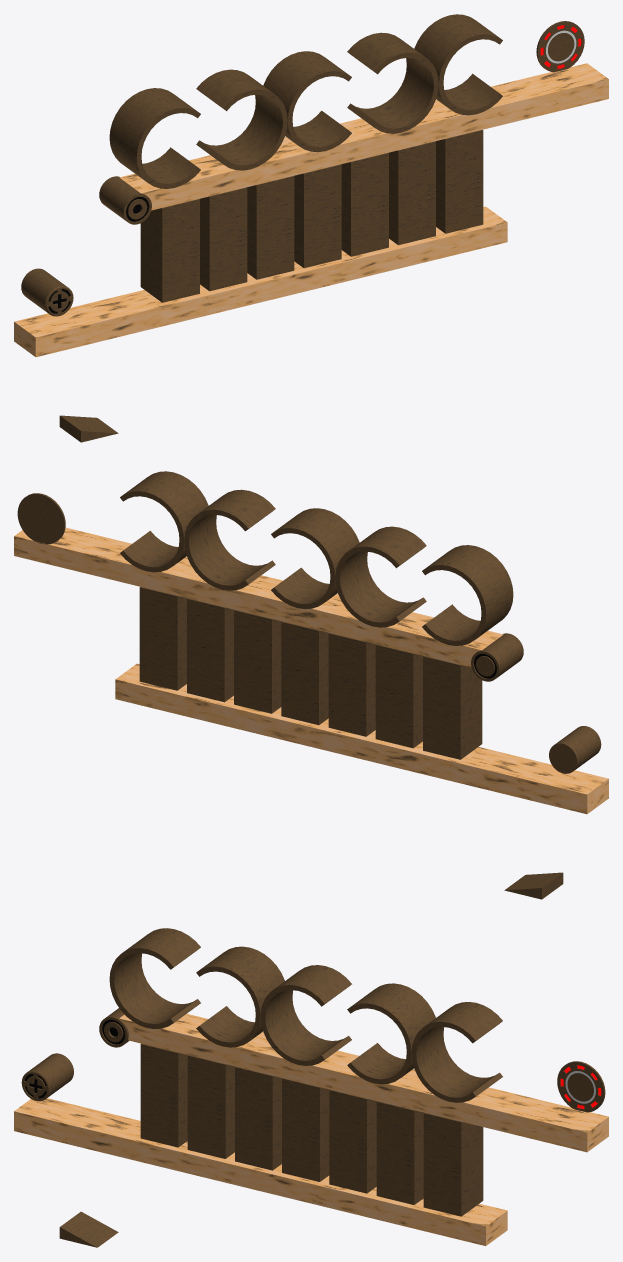
File: level10.fbx
3 views of the same model, one above another, from view 1: azimuth 30°, elevation 25°; view 2: azimuth 150°, elevation 25°; view 3: azimuth 330°, elevation 25° (orthographic).
Parts seen in each view (by area): view 1: Cube.025, Cube.024, AlternateDoor, SpinCircle.003, SpinCircle.001, SpinCircle.004, AlternateDoor.001, AlternateDoor.006, AlternateDoor.003, AlternateDoor.002, AlternateDoor.004, AlternateDoor.005 (+6 smaller); view 2: Cube.025, Cube.024, AlternateDoor, SpinCircle.003, SpinCircle.001, SpinCircle.004, AlternateDoor.001, AlternateDoor.006, AlternateDoor.003, AlternateDoor.002, AlternateDoor.004, AlternateDoor.005 (+6 smaller); view 3: Cube.025, Cube.024, AlternateDoor.006, SpinCircle, SpinCircle.002, SpinCircle.004, AlternateDoor.001, AlternateDoor.005, AlternateDoor, AlternateDoor.004, AlternateDoor.003, AlternateDoor.002 (+6 smaller).
Boxes of the visible parts, x1,y1,x2,y2 form: Cube.025: [14, 206, 507, 357]; Cube.024: [119, 63, 608, 210]; AlternateDoor: [140, 199, 199, 302]; SpinCircle.003: [196, 69, 287, 170]; SpinCircle.001: [347, 32, 438, 133]; SpinCircle.004: [109, 88, 200, 188]; AlternateDoor.001: [200, 187, 247, 291]; AlternateDoor.006: [436, 130, 483, 233]; AlternateDoor.003: [294, 164, 341, 268]; AlternateDoor.002: [247, 176, 294, 279]; AlternateDoor.004: [341, 153, 388, 256]; AlternateDoor.005: [388, 141, 435, 245]; Cube.025: [115, 663, 608, 814]; Cube.024: [14, 527, 503, 667]; AlternateDoor: [423, 656, 482, 759]; SpinCircle.003: [335, 526, 426, 627]; SpinCircle.001: [184, 489, 275, 590]; SpinCircle.004: [422, 545, 513, 645]; AlternateDoor.001: [375, 644, 422, 748]; AlternateDoor.006: [139, 587, 186, 690]; AlternateDoor.003: [281, 621, 328, 725]; AlternateDoor.002: [328, 633, 375, 736]; AlternateDoor.004: [234, 610, 281, 713]; AlternateDoor.005: [187, 598, 234, 702]; Cube.025: [14, 1098, 507, 1245]; Cube.024: [119, 1014, 608, 1152]; AlternateDoor.006: [423, 1112, 483, 1216]; SpinCircle: [411, 1002, 502, 1102]; SpinCircle.002: [260, 965, 351, 1065]; SpinCircle.004: [109, 928, 200, 1028]; AlternateDoor.001: [187, 1055, 234, 1158]; AlternateDoor.005: [376, 1101, 423, 1204]; AlternateDoor: [140, 1043, 187, 1147]; AlternateDoor.004: [329, 1089, 376, 1193]; AlternateDoor.003: [282, 1078, 329, 1181]; AlternateDoor.002: [235, 1066, 282, 1170].
Size of the model in its own units: 6073 by 500 by 3177.
